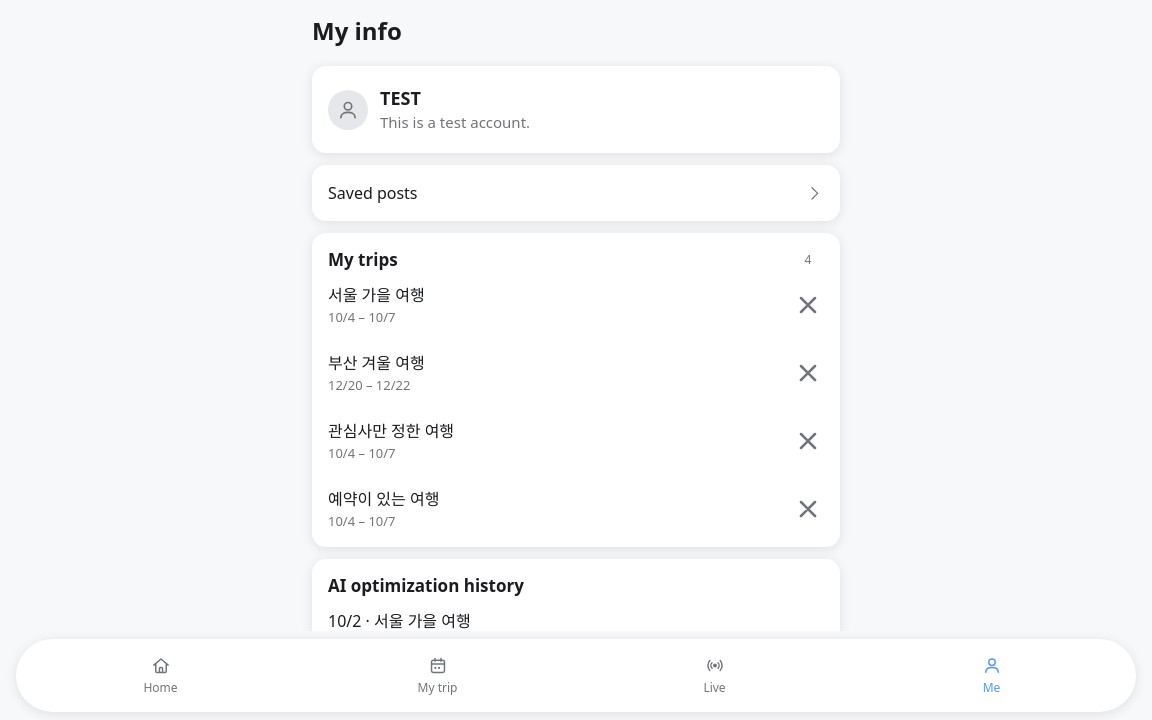
it: A-07 saved posts › opens the saved list from profile and shows its empty state
Click the link "Saved posts" at (373,193), box x1=328 y1=182 x2=824 y2=204
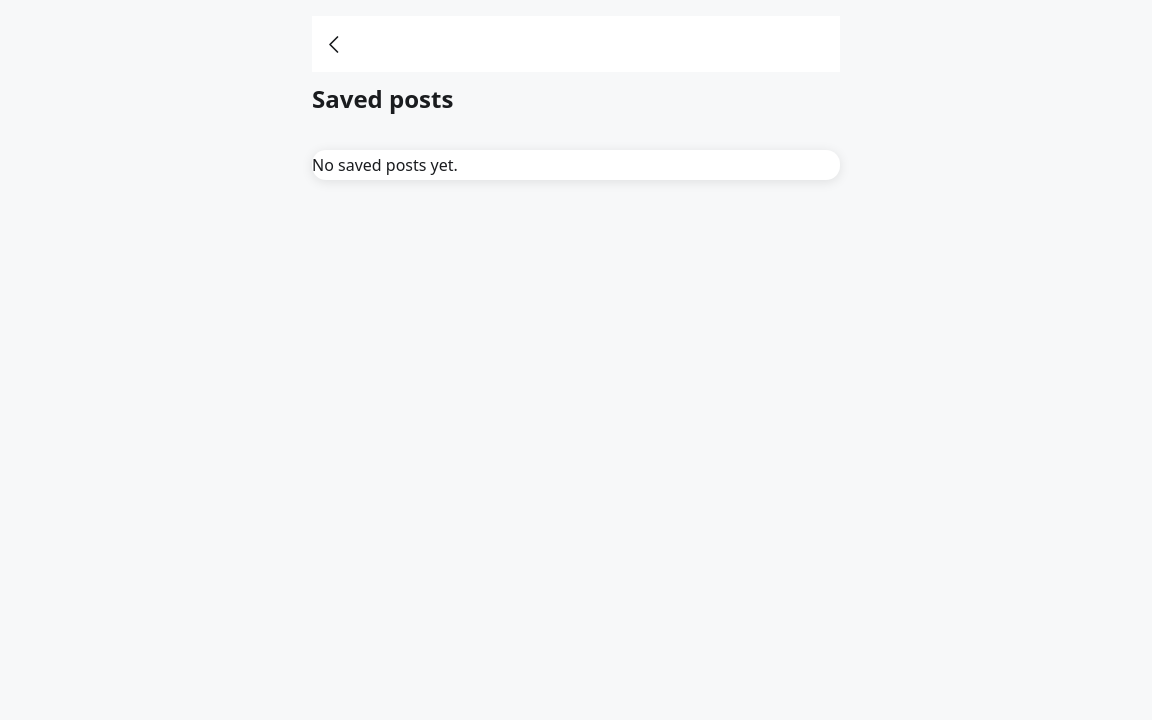
expect the text "No saved posts yet." is shown: met, box x1=312 y1=150 x2=840 y2=180
